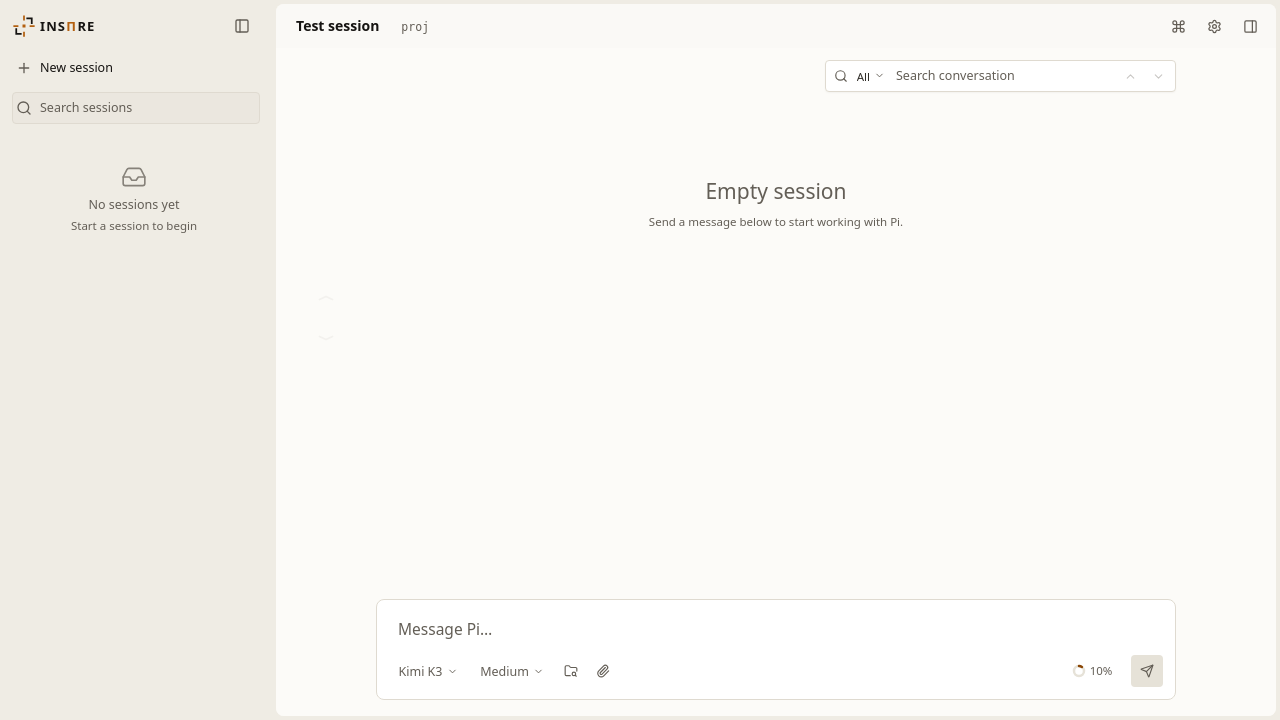
it: workbench keyboard ownership › cycles from the draft and exposes matching hints on MacIntel
This screenshot has width=1280, height=720.
Press m in the text box labelled "Message", box [393,616,1159,643]
Press p in the text box labelled "Message", box [393,616,1159,643]
Press r in the text box labelled "Message", box [393,616,1159,643]
Click the button named "Open command palette" at (1178, 26), box [1164,12,1192,40]
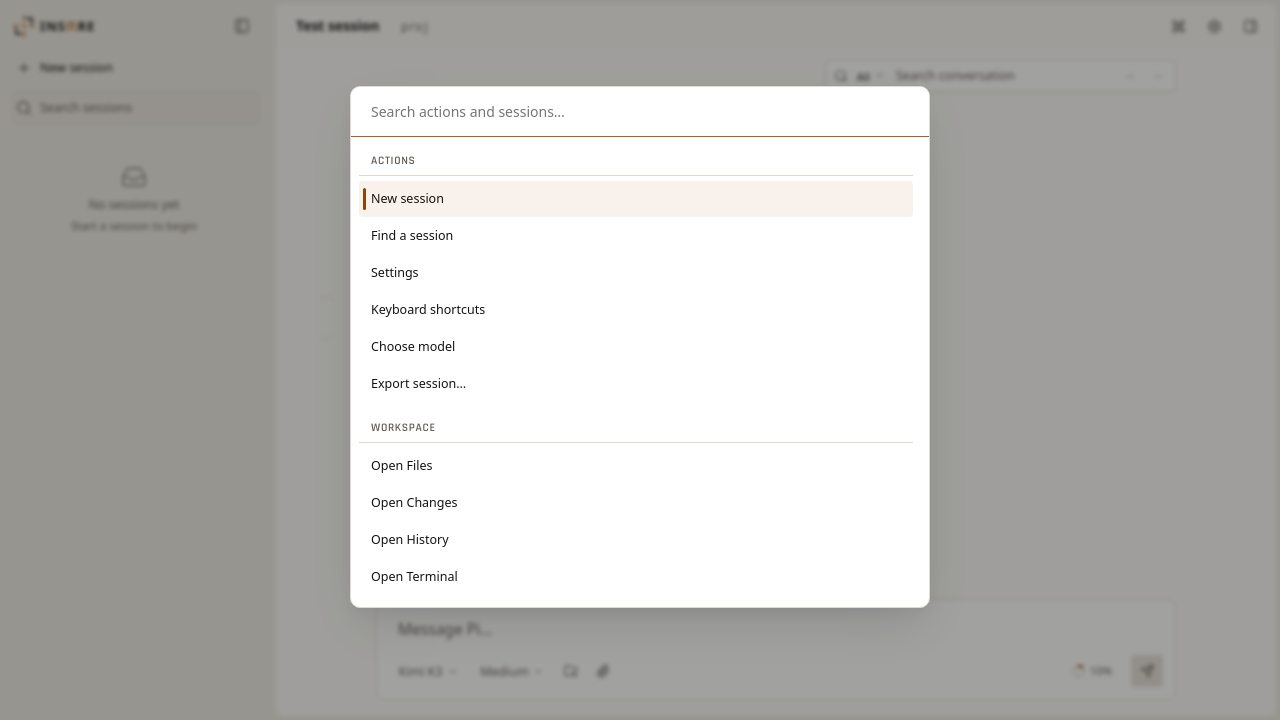
Type "Next model" into the dropdown named "Filter commands" at (640, 112), box [351,87,929,137]
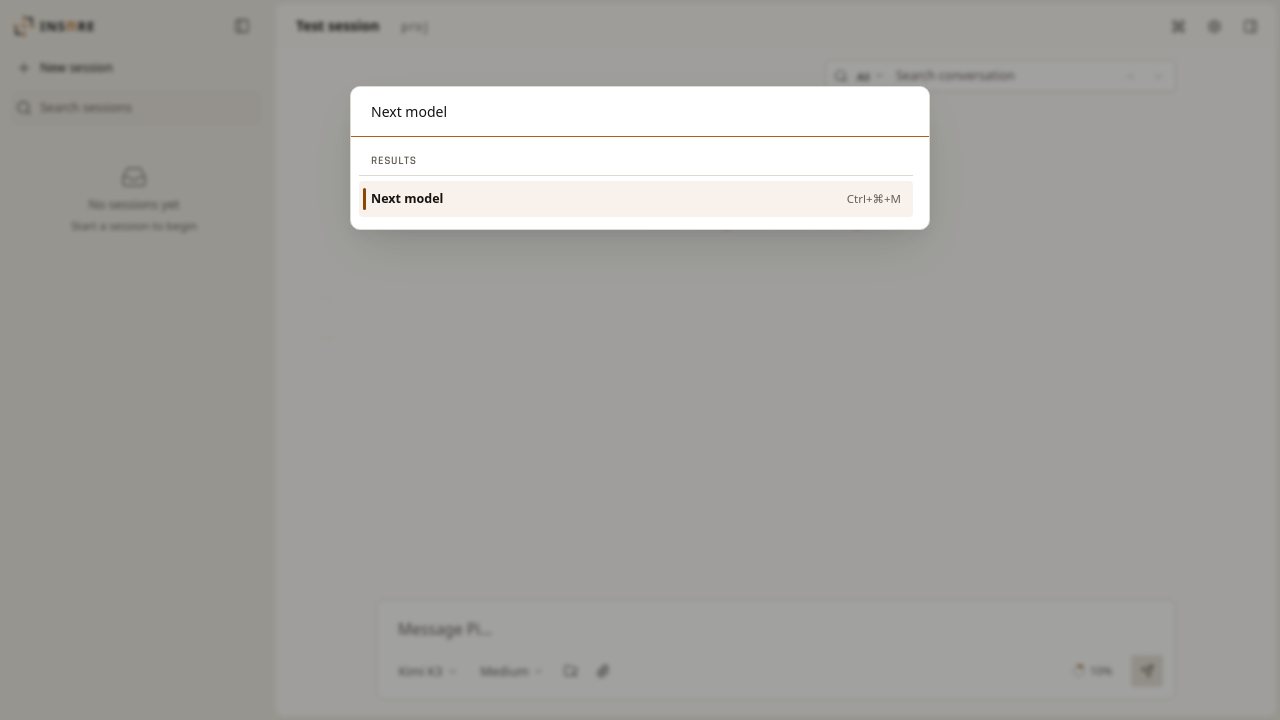
Result: the option "Next model Ctrl+⌘+M" is shown at [359,181,913,217]
